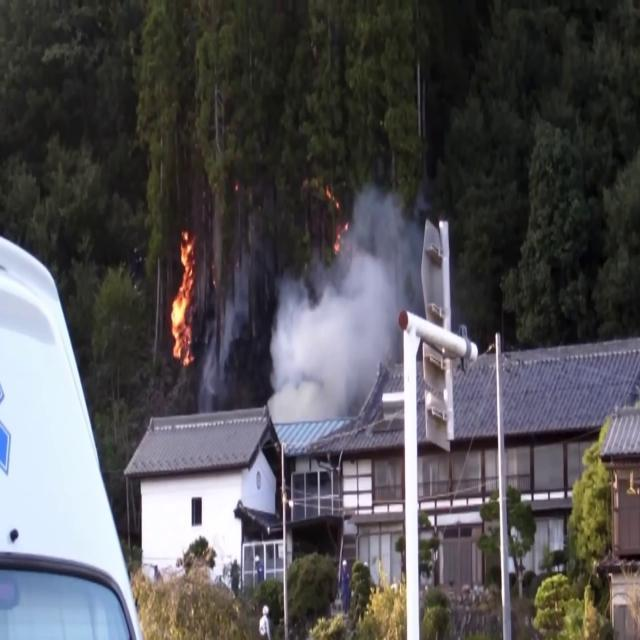Fire: (167, 222, 199, 366)
Smoke: (267, 171, 420, 423)
